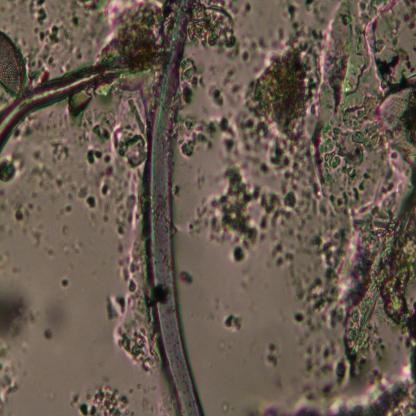Background material: (302, 3, 416, 358), (0, 35, 166, 153), (242, 41, 310, 167), (195, 164, 261, 264), (105, 296, 158, 374), (96, 2, 167, 60), (0, 291, 33, 404), (258, 184, 298, 268), (334, 377, 416, 416), (0, 186, 46, 244), (192, 1, 239, 54), (26, 26, 62, 89), (176, 120, 240, 154), (68, 383, 131, 416), (30, 137, 70, 186), (116, 240, 148, 298), (92, 146, 121, 209), (20, 113, 74, 144), (302, 355, 338, 400), (260, 398, 336, 416), (114, 126, 148, 166), (209, 67, 243, 107), (62, 0, 96, 39), (113, 189, 141, 236), (86, 106, 115, 146), (180, 61, 204, 108), (39, 302, 67, 342), (280, 3, 302, 42), (0, 151, 26, 182), (48, 184, 70, 218), (46, 238, 82, 258), (76, 182, 98, 213), (68, 92, 93, 116), (27, 0, 48, 28), (223, 310, 244, 334), (264, 341, 279, 370), (171, 180, 187, 204), (244, 0, 259, 19), (179, 270, 195, 286), (86, 146, 102, 162), (293, 310, 307, 324), (60, 275, 70, 289)
Diatom: (0, 31, 26, 99)
Microfibre: (146, 0, 204, 416)
